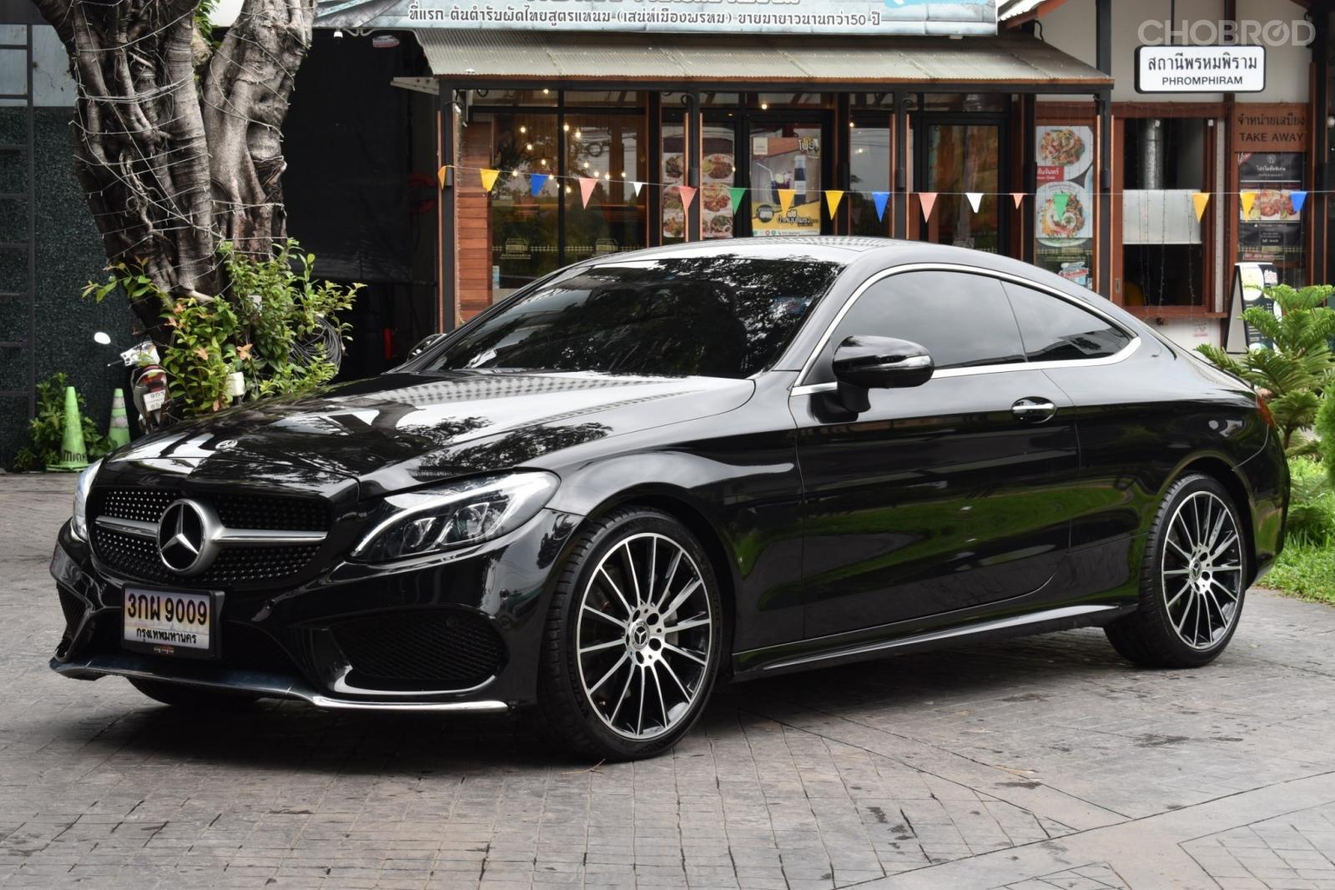license-plate: (113, 580, 222, 654)
